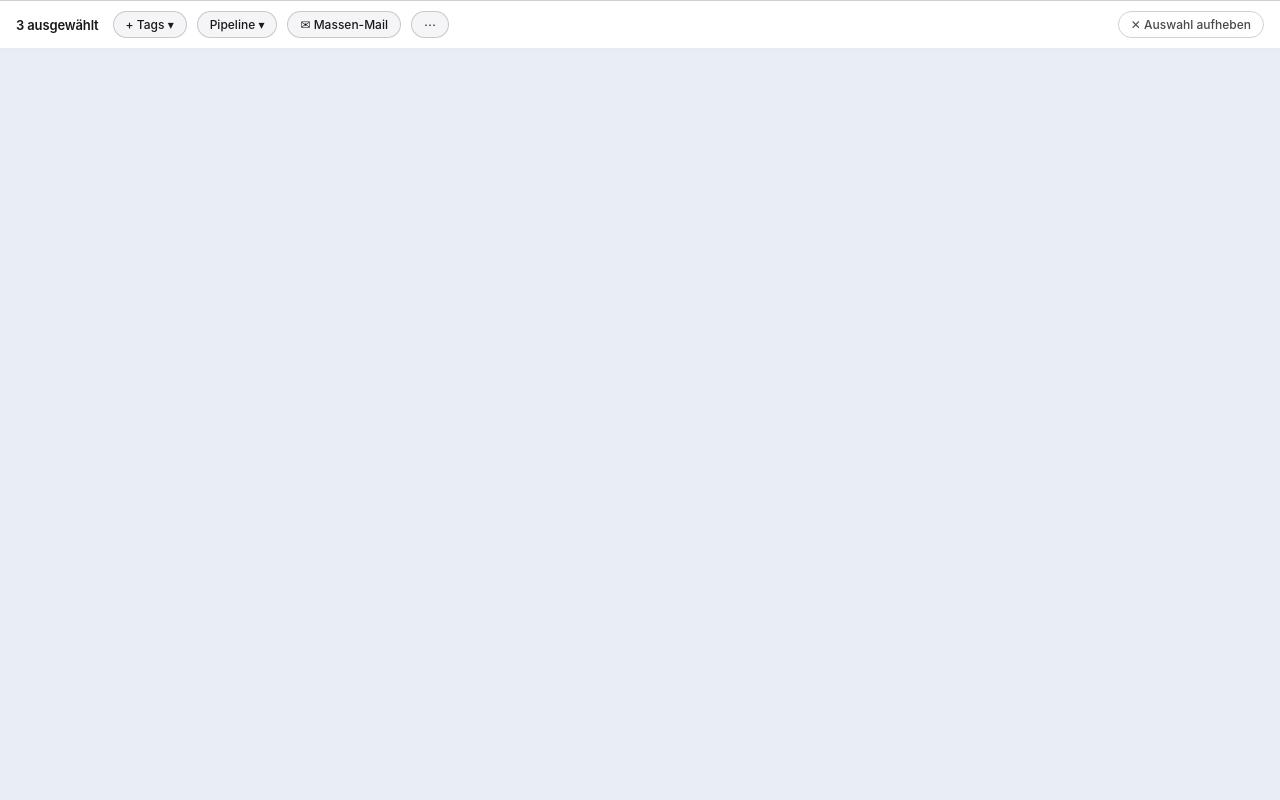
Scenario: AddressbookBulkActionBar › click on "✉ Massen-Mail" opens stub modal with TODO Phase 5 text
The width and height of the screenshot is (1280, 800).
Click the button "✉ Massen-Mail".
click(344, 24)  # box [287,11,401,38]
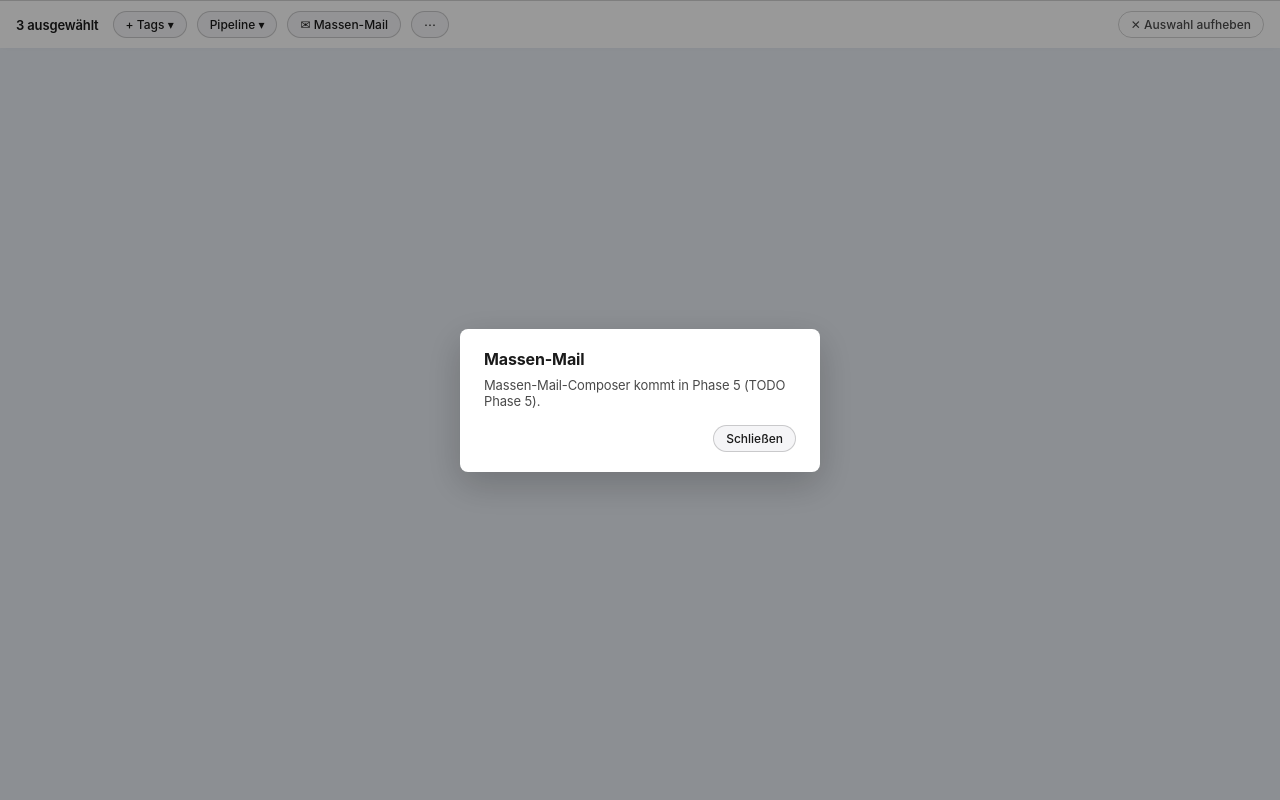
Expected: the dialog with test id "mass-mail-modal" shows "TODO Phase 5", [484,376,785,408]
